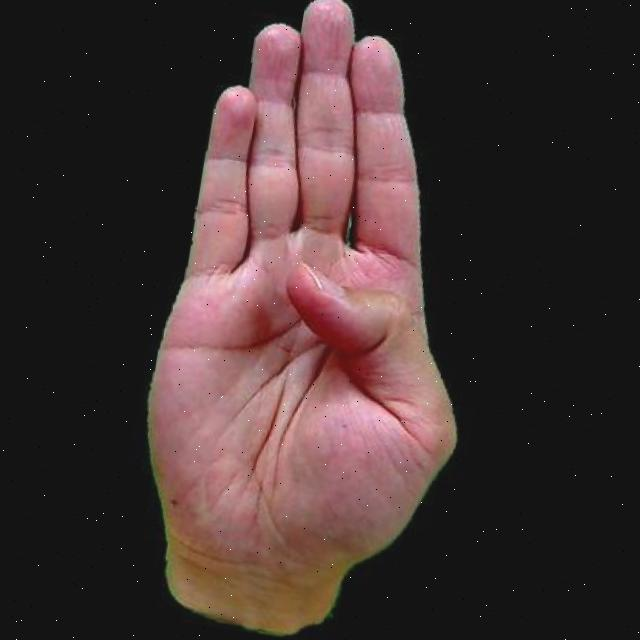b: (103, 0, 533, 640)
